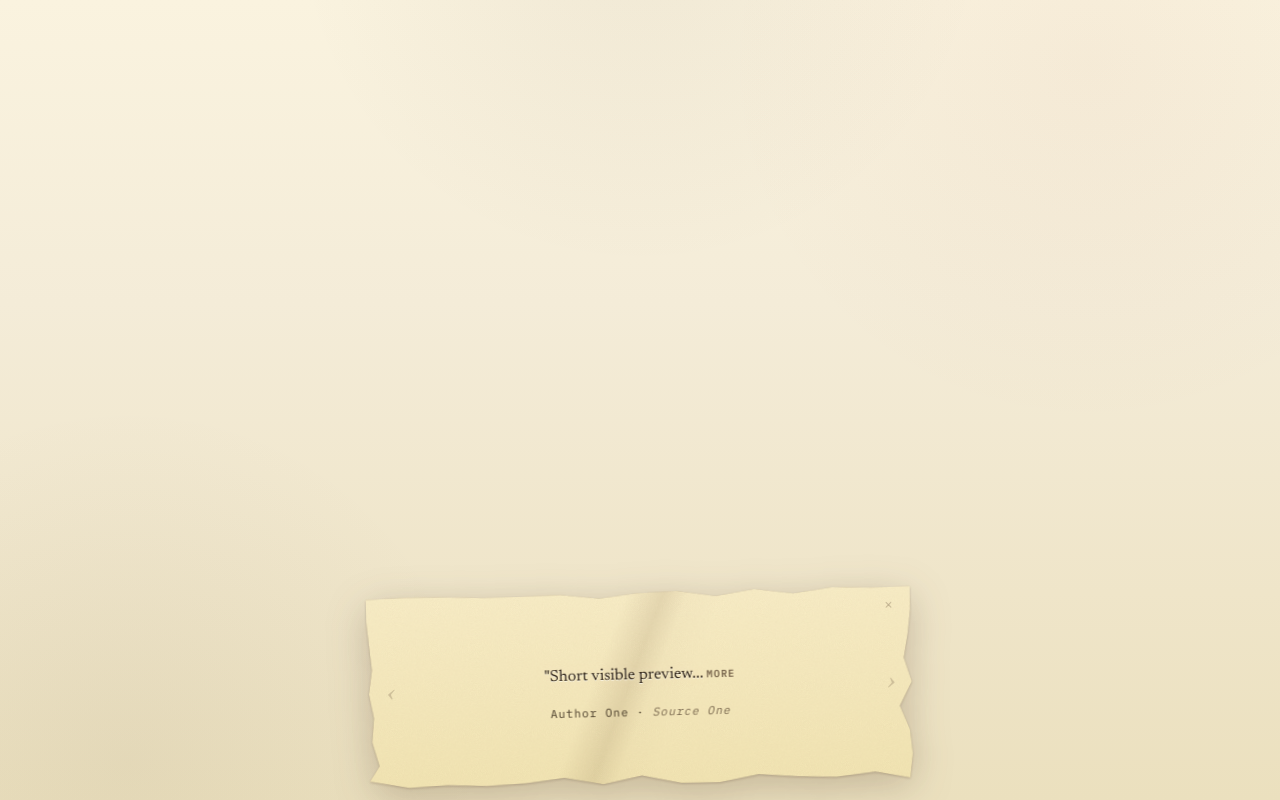
BookshelfQuoteDock › closes the dock when the × button is clicked and shows the torn-paper peek
The image size is (1280, 800).
Check: the text "\"Short visible preview" is shown, box [544, 666, 692, 685]
Click the button named "Hide quote dock". click: (888,605)
box: [878, 594, 899, 616]
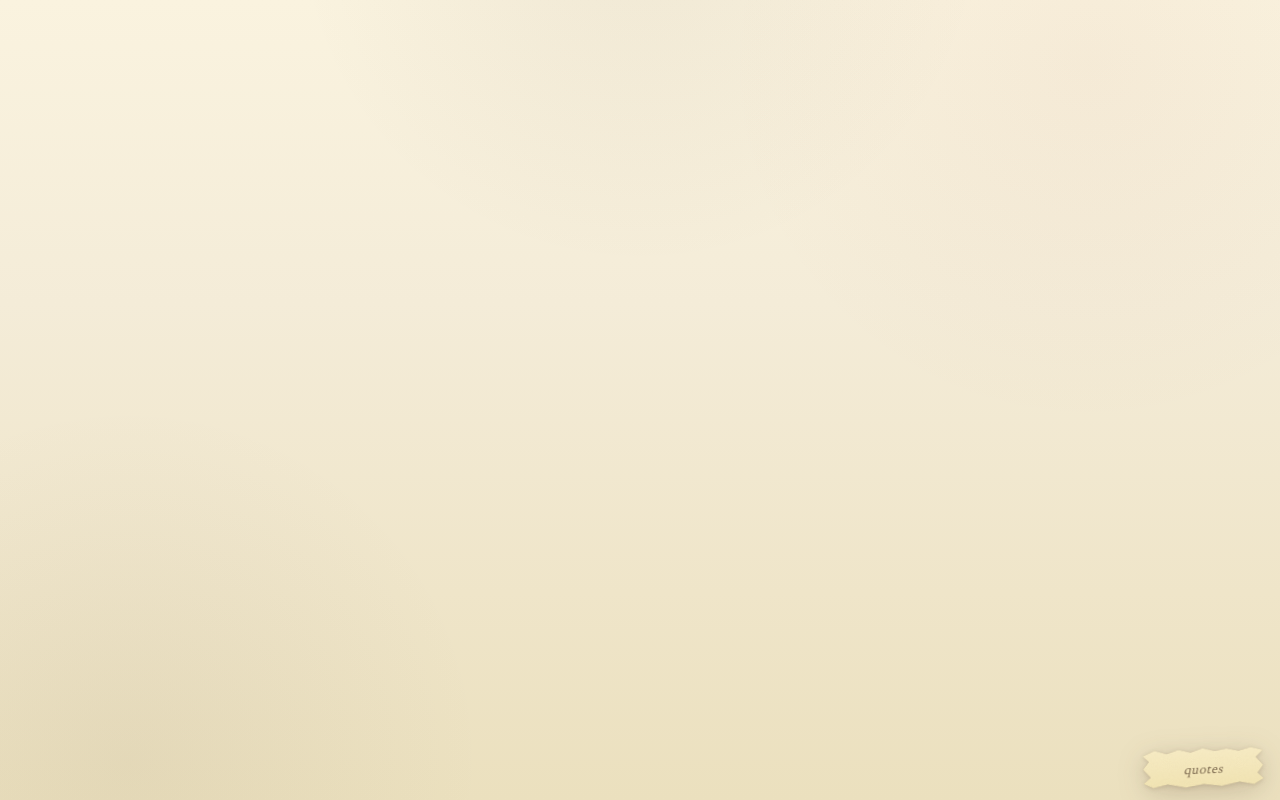
Check: the button with aria-label "Show quote dock" is shown, box [1142, 744, 1264, 791]
